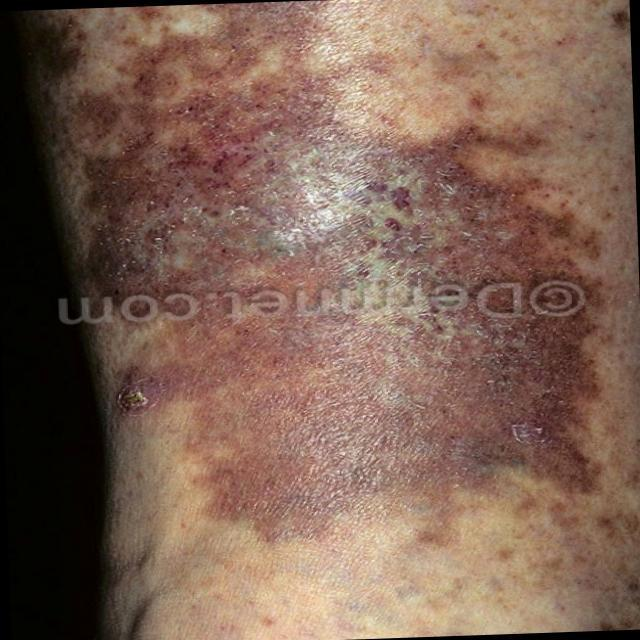Eczema: (36, 1, 604, 522)
